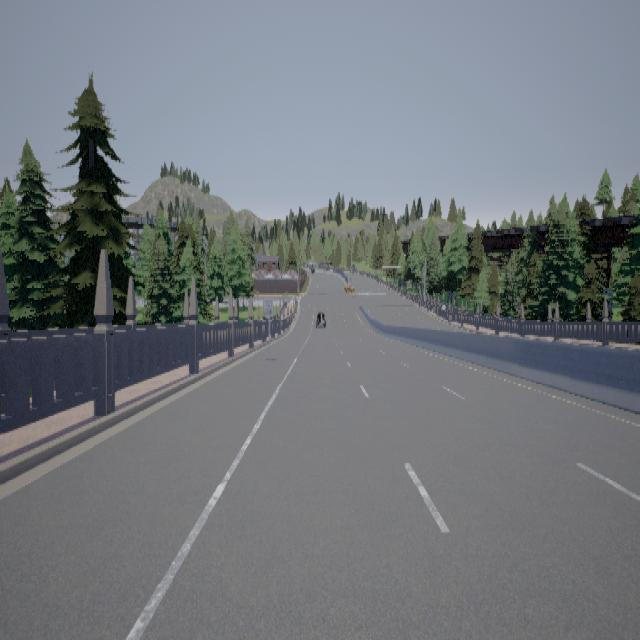traffic_sign: (265, 296, 274, 315)
vehicle: (317, 308, 328, 327)
